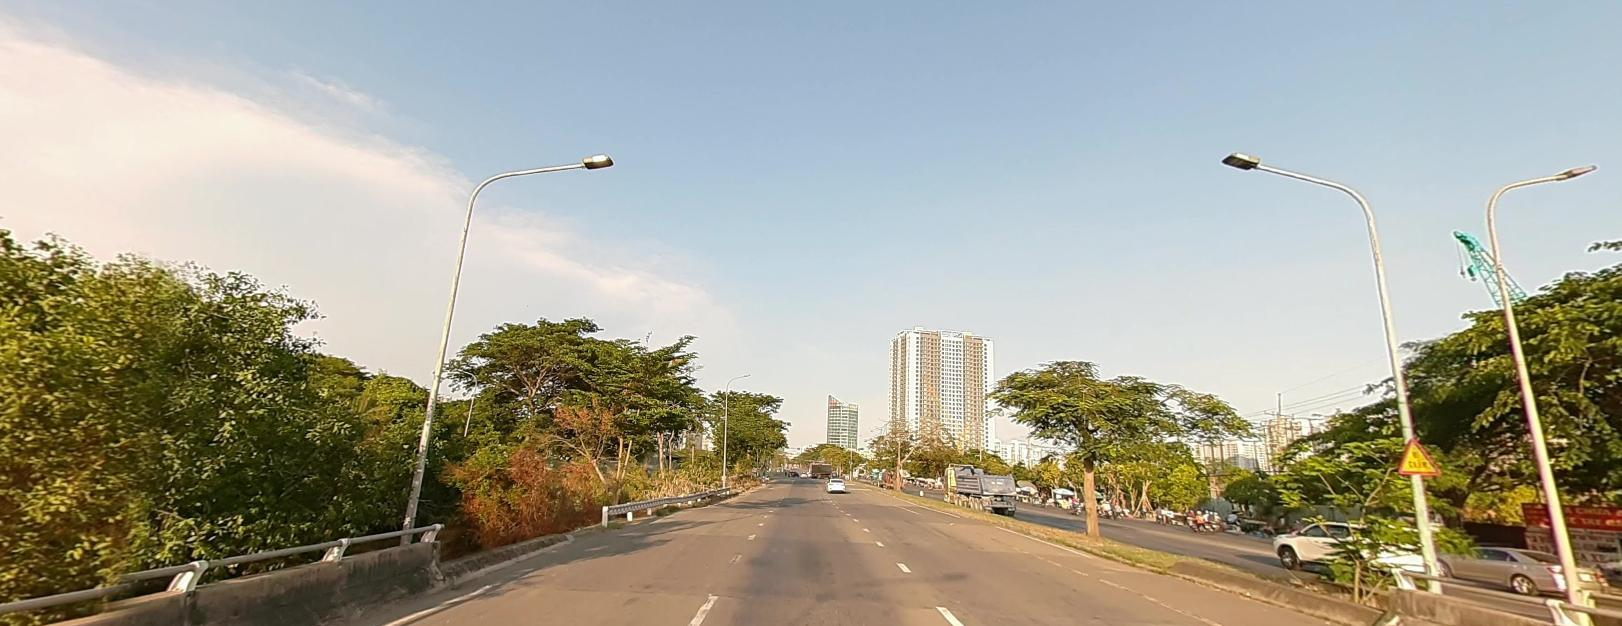Nguy hiem: (1397, 437, 1441, 476), (1398, 438, 1441, 474), (1399, 438, 1442, 474), (1399, 438, 1441, 473), (1399, 438, 1440, 473)
